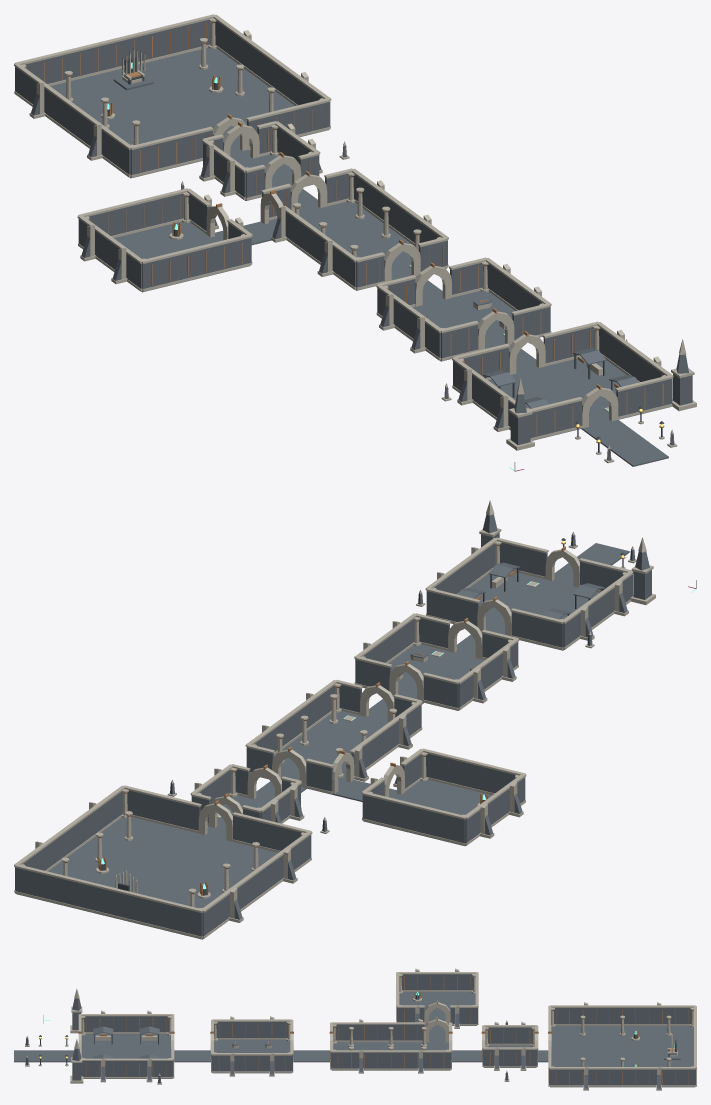
The model's file is ossuary_exchange_preview.glb.
3 views of the same model, one above another, from view 1: azimuth 30°, elevation 25°; view 2: azimuth 150°, elevation 25°; view 3: azimuth 270°, elevation 25° (orthographic). The views are drawn at different scales.
Visible parts, largest first — view 1: AEON_outer_market_0556, AEON_outer_market_0557, AEON_black_throne_0582, AEON_disruption_chambers_0144, AEON_outer_market_0077, AEON_outer_market_0063, AEON_construction_gauntlet_0208, AEON_disruption_chambers_0133, AEON_construction_gauntlet_0220; view 2: AEON_outer_market_0556, AEON_disruption_chambers_0133, AEON_black_throne_0472, AEON_outer_market_0063, AEON_disruption_chambers_0144; view 3: AEON_outer_market_0557, AEON_outer_market_0556, AEON_branch_link_0540, AEON_black_throne_0474, AEON_outer_market_0080, AEON_outer_market_0082, AEON_disruption_chambers_0136, AEON_disruption_chambers_0137, AEON_disruption_chambers_0138, AEON_construction_gauntlet_0212, AEON_construction_gauntlet_0224, AEON_construction_gauntlet_0226 (+60 smaller).
Boxes of the visible parts, bbox=[...] form: AEON_outer_market_0556: bbox=[506, 378, 534, 450]; AEON_outer_market_0557: bbox=[671, 339, 696, 411]; AEON_black_throne_0582: bbox=[113, 48, 153, 90]; AEON_disruption_chambers_0144: bbox=[415, 262, 451, 306]; AEON_outer_market_0077: bbox=[509, 331, 545, 374]; AEON_outer_market_0063: bbox=[582, 384, 618, 428]; AEON_construction_gauntlet_0208: bbox=[384, 239, 420, 281]; AEON_disruption_chambers_0133: bbox=[478, 308, 514, 350]; AEON_construction_gauntlet_0220: bbox=[290, 171, 327, 212]; AEON_outer_market_0556: bbox=[630, 537, 655, 604]; AEON_disruption_chambers_0133: bbox=[448, 618, 482, 659]; AEON_black_throne_0472: bbox=[198, 800, 232, 841]; AEON_outer_market_0063: bbox=[545, 546, 579, 587]; AEON_disruption_chambers_0144: bbox=[389, 661, 423, 701]; AEON_outer_market_0557: bbox=[70, 1039, 83, 1083]; AEON_outer_market_0556: bbox=[70, 989, 82, 1033]; AEON_branch_link_0540: bbox=[424, 1000, 450, 1025]; AEON_black_throne_0474: bbox=[562, 1005, 576, 1025]; AEON_outer_market_0080: bbox=[106, 1058, 120, 1078]; AEON_outer_market_0082: bbox=[132, 1058, 146, 1078]; AEON_disruption_chambers_0136: bbox=[239, 1019, 252, 1039]; AEON_disruption_chambers_0137: bbox=[252, 1019, 265, 1039]; AEON_disruption_chambers_0138: bbox=[265, 1019, 278, 1039]; AEON_construction_gauntlet_0212: bbox=[371, 1022, 384, 1042]; AEON_construction_gauntlet_0224: bbox=[371, 1050, 384, 1070]; AEON_construction_gauntlet_0226: bbox=[397, 1050, 411, 1070].
Size of the model in its own units: 73.8 by 14.3 by 206.
